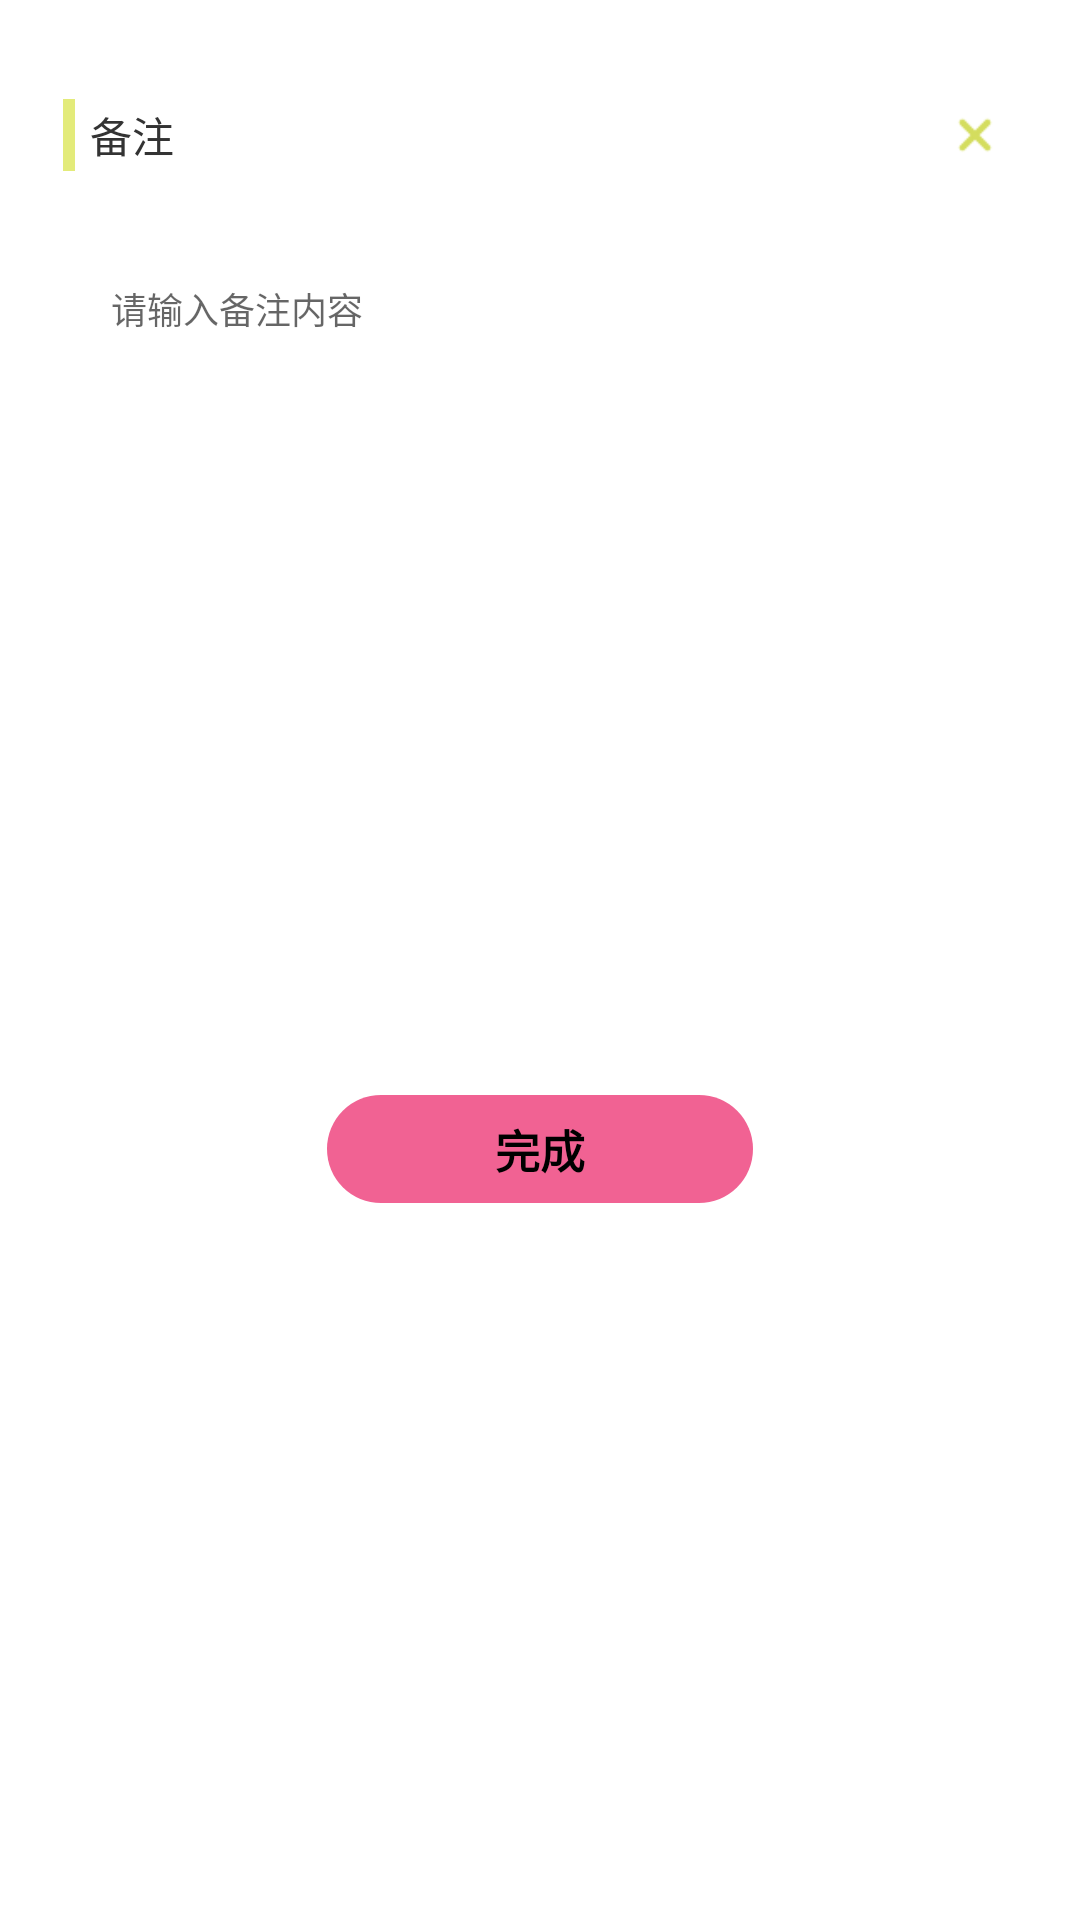

Where to tap for icons on this 1080 x 1920 app screen, as point (x, y):
exit: point (975, 135)
